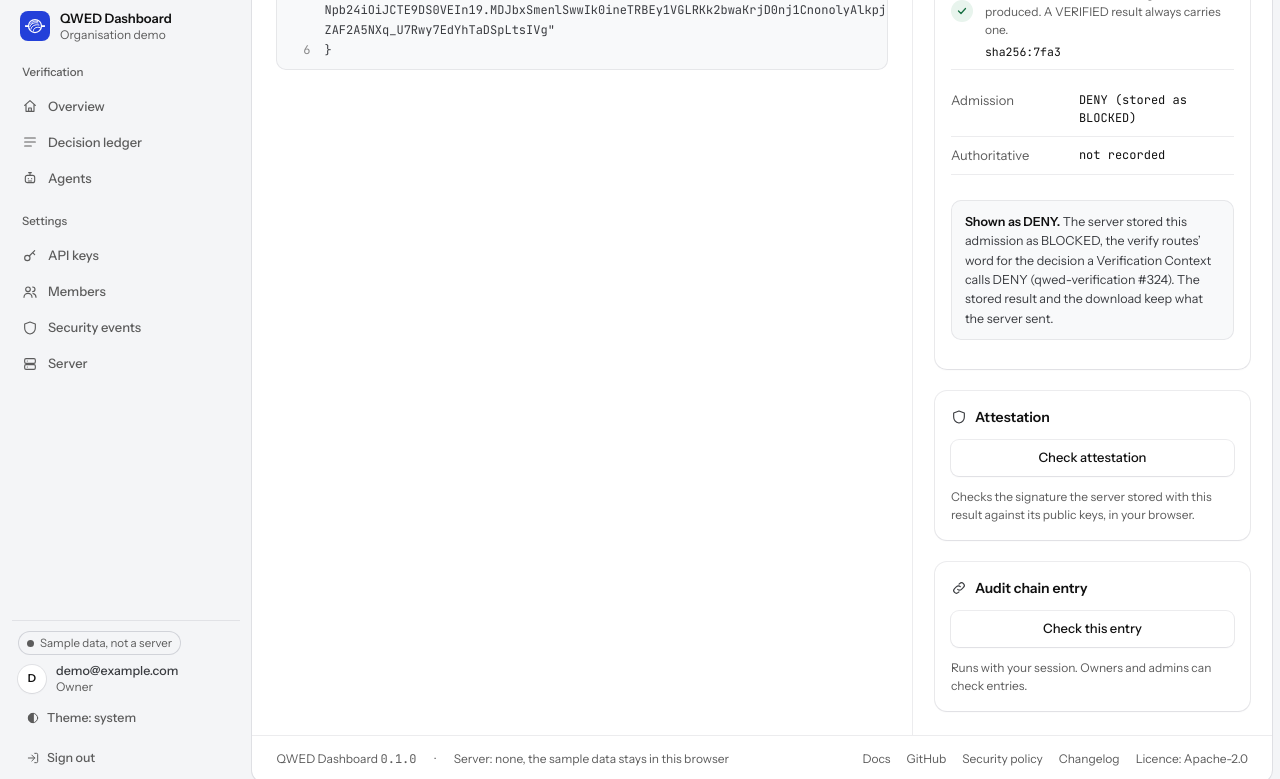
it: RecordPage › the reason, what next, and checks › the attestation check (#39) › says the keys could not be loaded, not that the record is missing
The image size is (1280, 779).
(page scrolled)
Click the button "Check attestation".
click(1092, 458)  # box [951,440,1234,476]
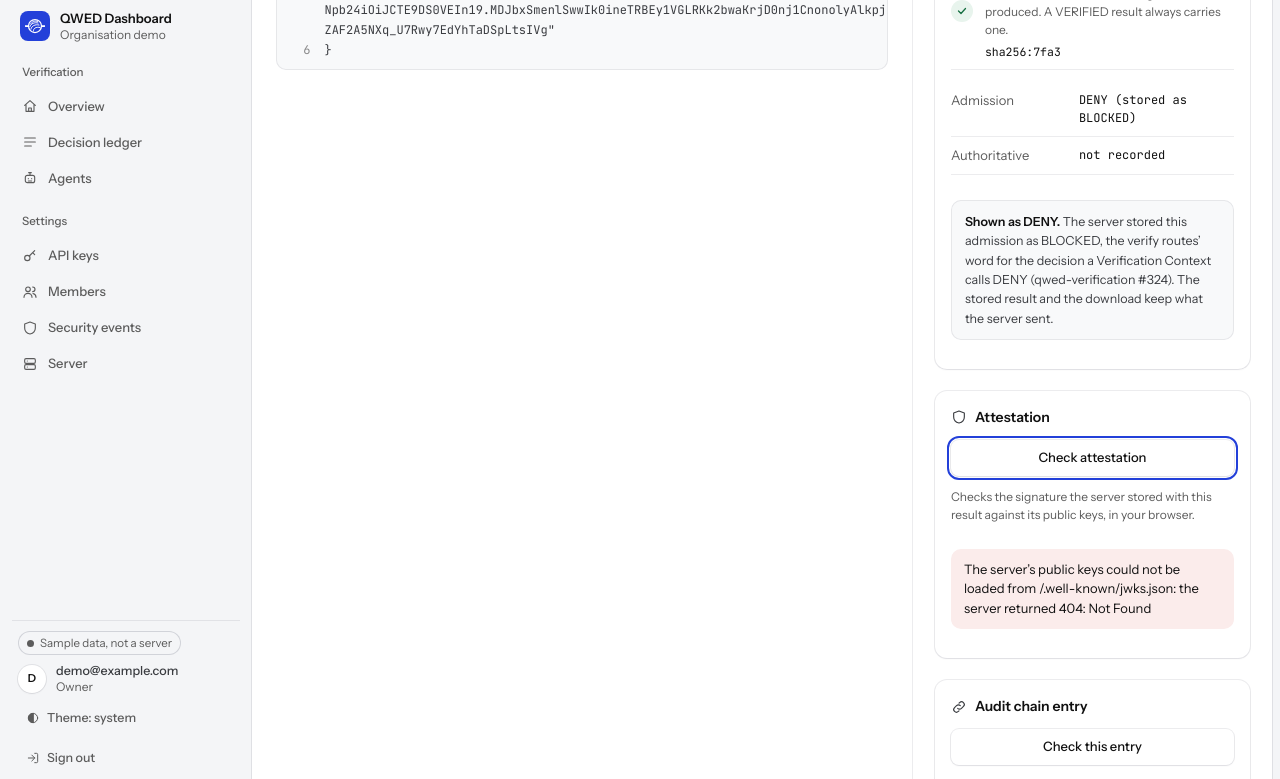
Check: the message shows "The server’s public keys could not be loaded from /.well-known/jwks.json: the server returned 404: Not Found", box [964,561,1199,616]
Click the button "Check attestation".
click(1092, 458)  # box [951,440,1234,476]
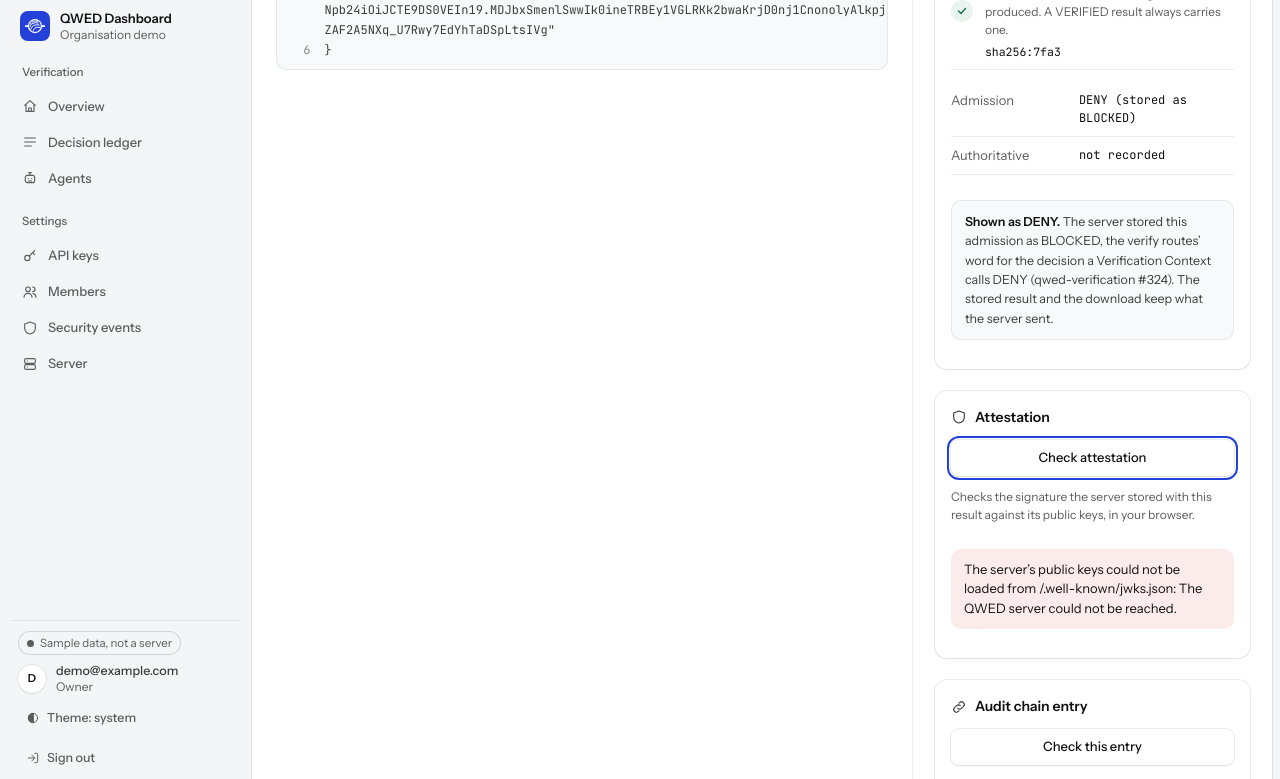
Check: the message shows "The server’s public keys could not be loaded from /.well-known/jwks.json: The QWED server could not be reached.", box [964,561,1202,616]
